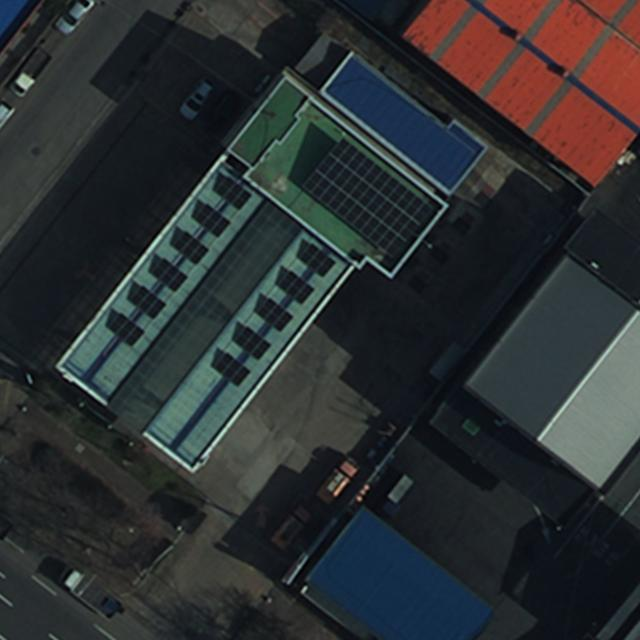panel: (295, 131, 440, 269), (209, 351, 254, 390), (190, 201, 235, 237), (213, 174, 256, 211), (172, 232, 215, 269), (254, 294, 294, 333), (234, 321, 273, 360), (275, 269, 316, 305), (125, 283, 168, 317), (106, 312, 146, 346), (296, 242, 337, 275), (148, 259, 190, 290)
